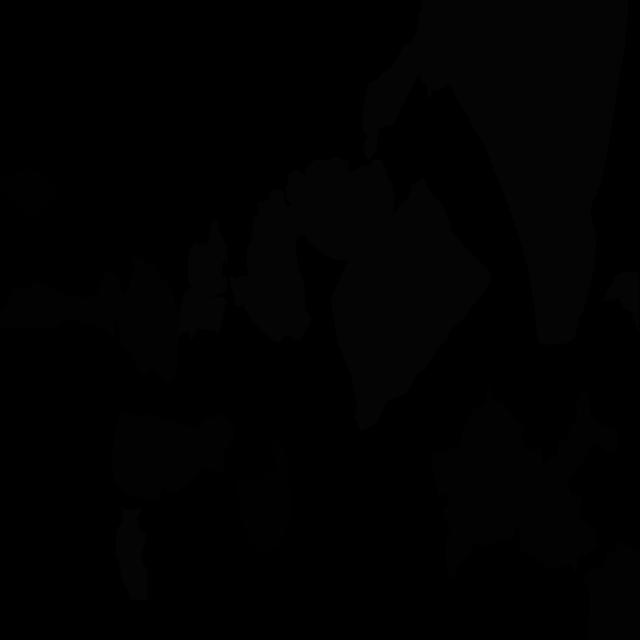cardboard: (430, 387, 618, 580), (111, 410, 236, 500), (112, 255, 181, 383), (0, 271, 122, 340), (581, 541, 640, 640)
rigid_plastic: (237, 434, 292, 553), (0, 167, 62, 223)
soft_plastic: (362, 0, 628, 345), (331, 177, 491, 431), (229, 188, 311, 344), (286, 156, 394, 262), (188, 220, 228, 297), (116, 506, 148, 601), (176, 287, 227, 340), (603, 271, 639, 335)
